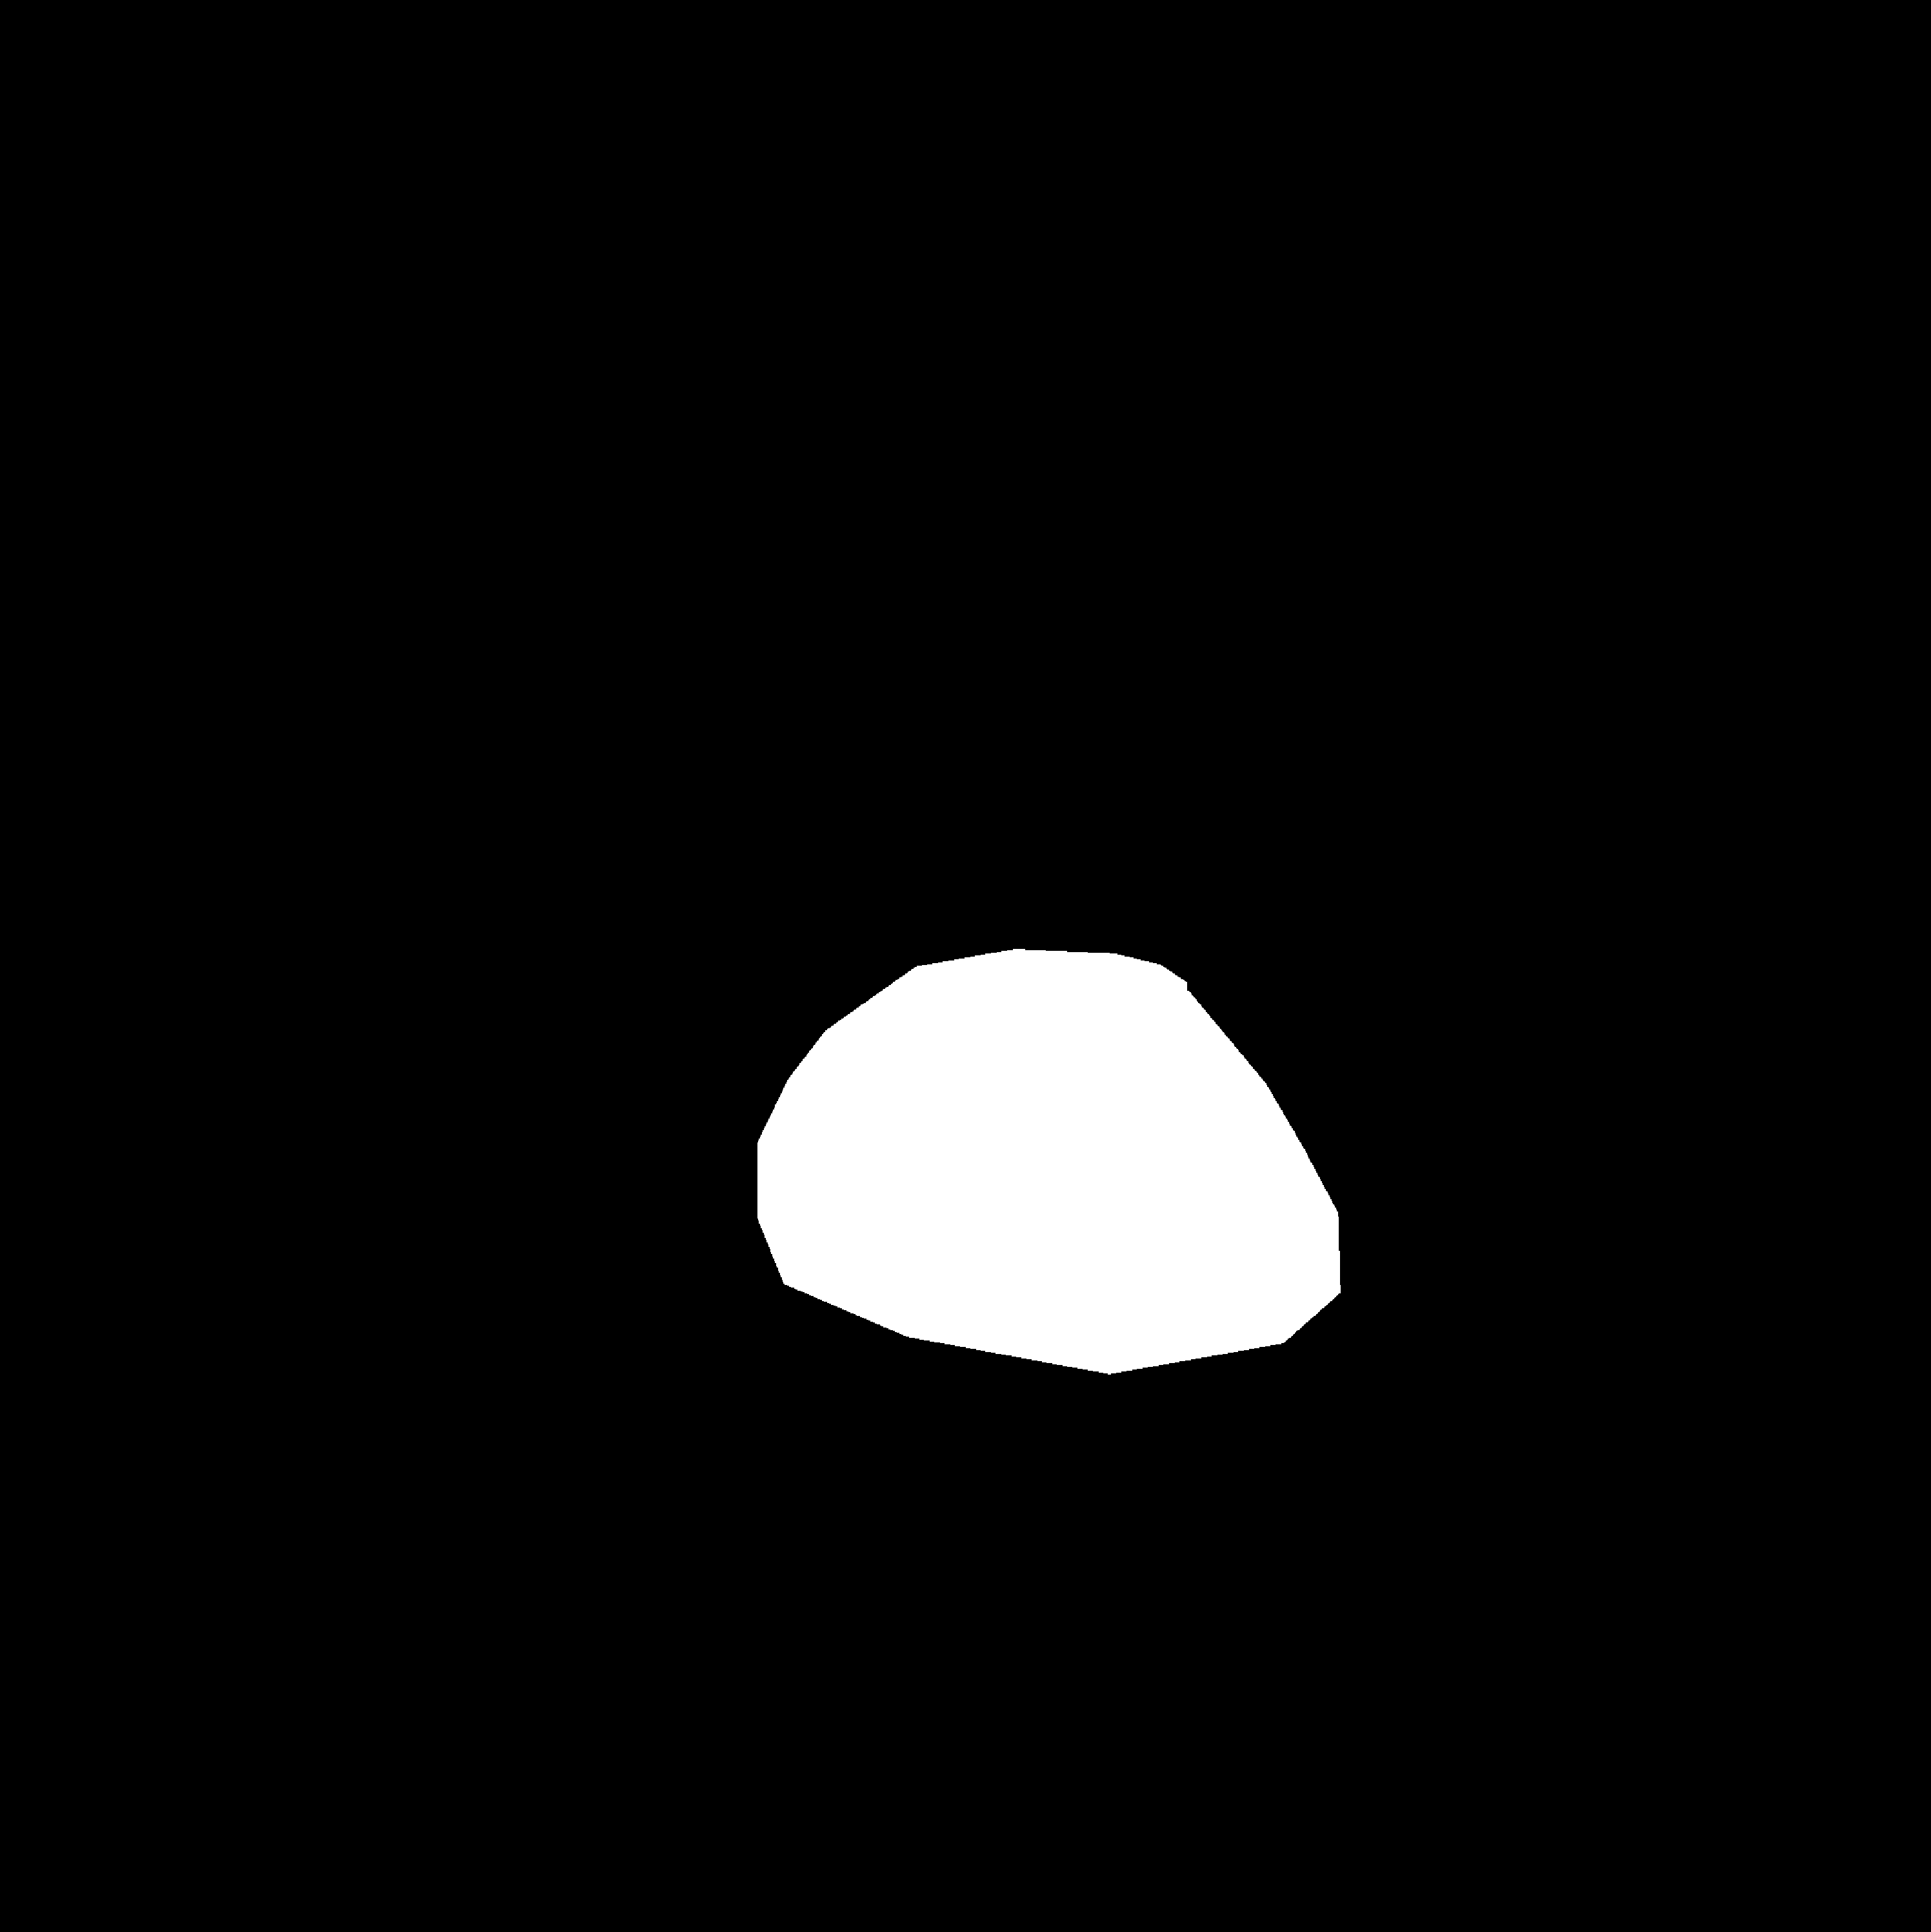heart: (720, 1036, 1457, 1396)
left_lung: (301, 369, 920, 1377)
right_lung: (1066, 339, 1666, 1419)
